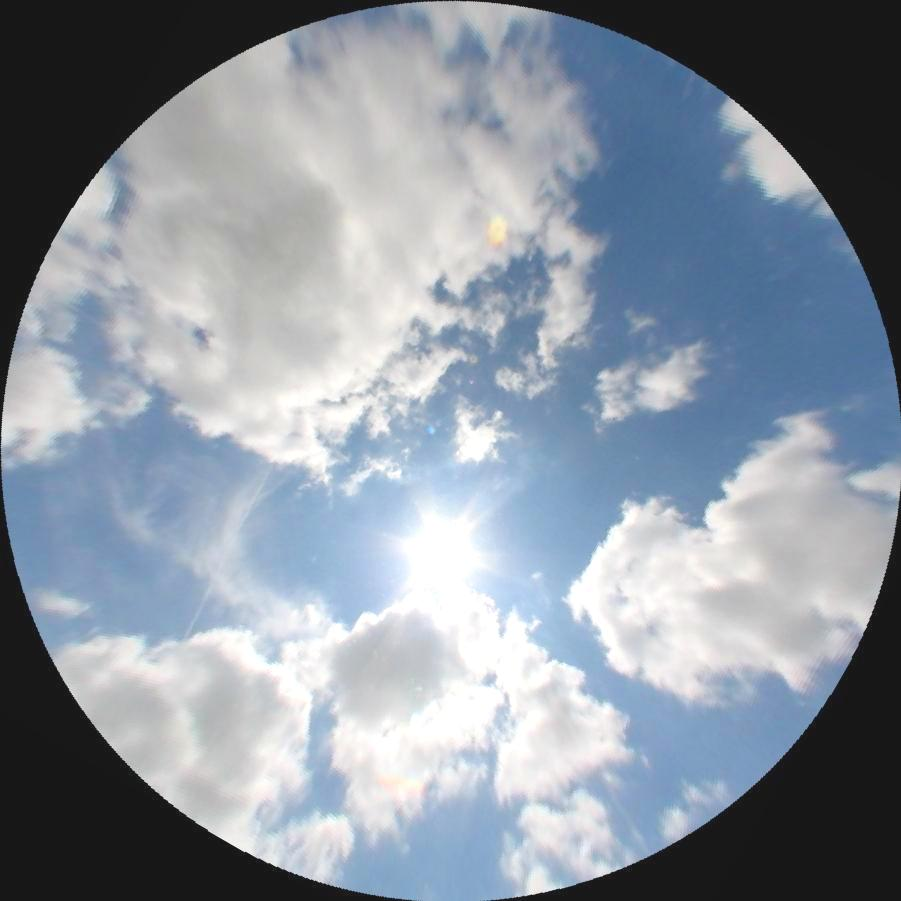contrail young: (182, 462, 273, 639)
sun: (399, 513, 482, 595)
